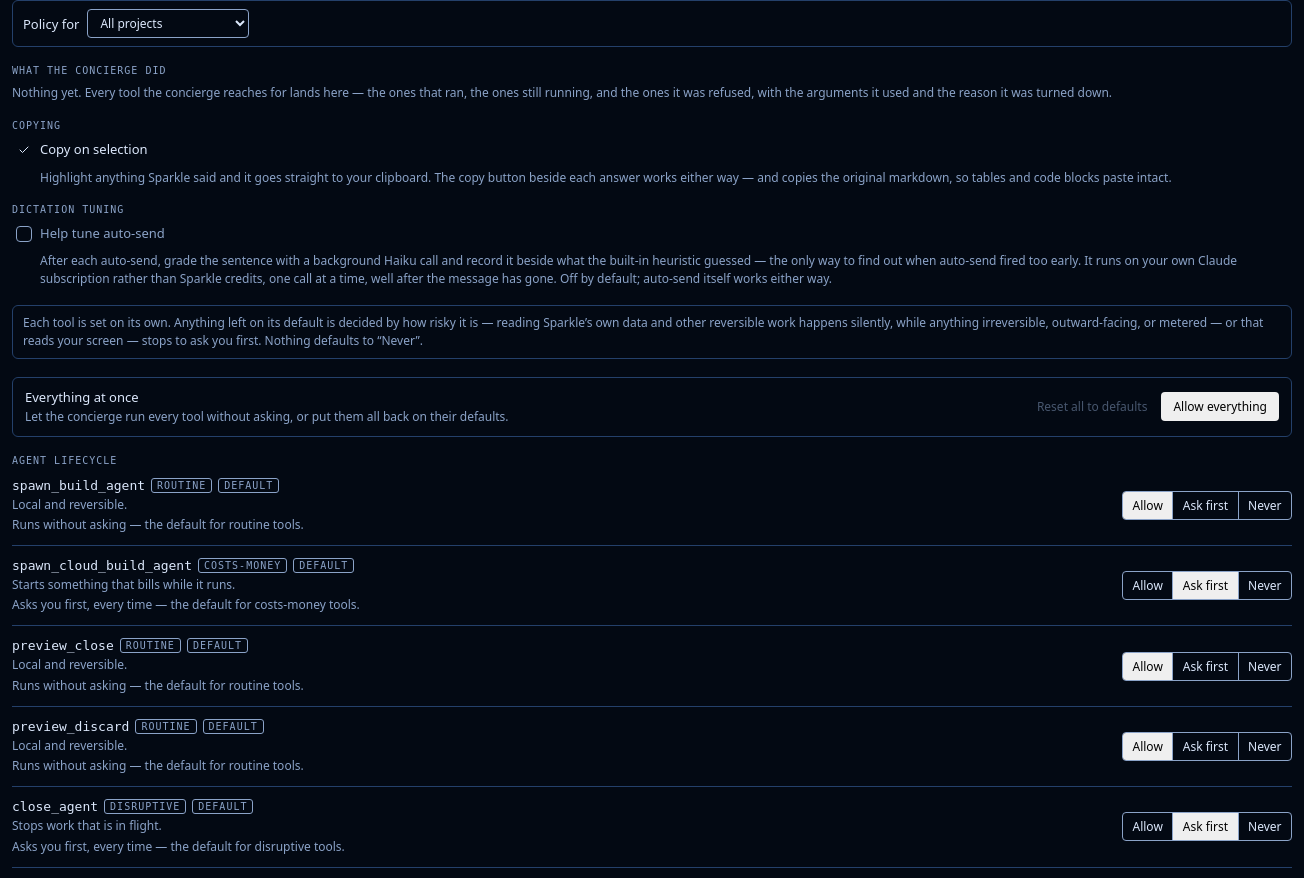
Test: the merge-protected badges › tells a PINNED repo to hand the merge to a human, and names no config lever
The width and height of the screenshot is (1304, 878).
Select "plow-pbc/tkmx-client" in the dropdown with test id "concierge-policy-scope": (168, 24) x1=87 y1=9 x2=249 y2=38
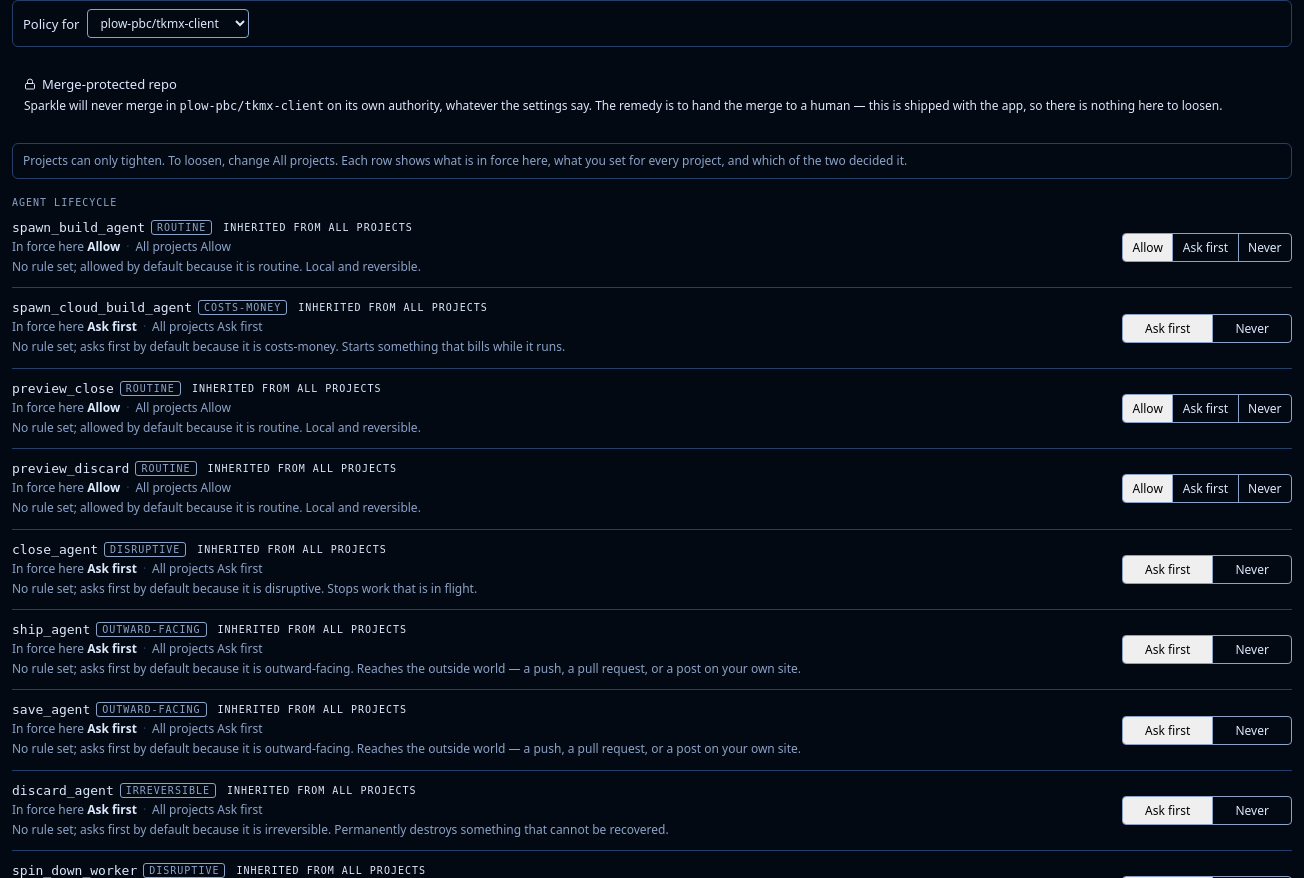
Expected: the element with test id "concierge-merge-protected-badge" shows "plow-pbc/tkmx-client", x1=180 y1=99 x2=324 y2=113
Expected: the element with test id "concierge-merge-protected-badge" shows "never merge", x1=24 y1=97 x2=180 y2=114
Expected: the element with test id "concierge-merge-protected-badge" shows "hand the merge to a human", x1=324 y1=97 x2=1222 y2=114
